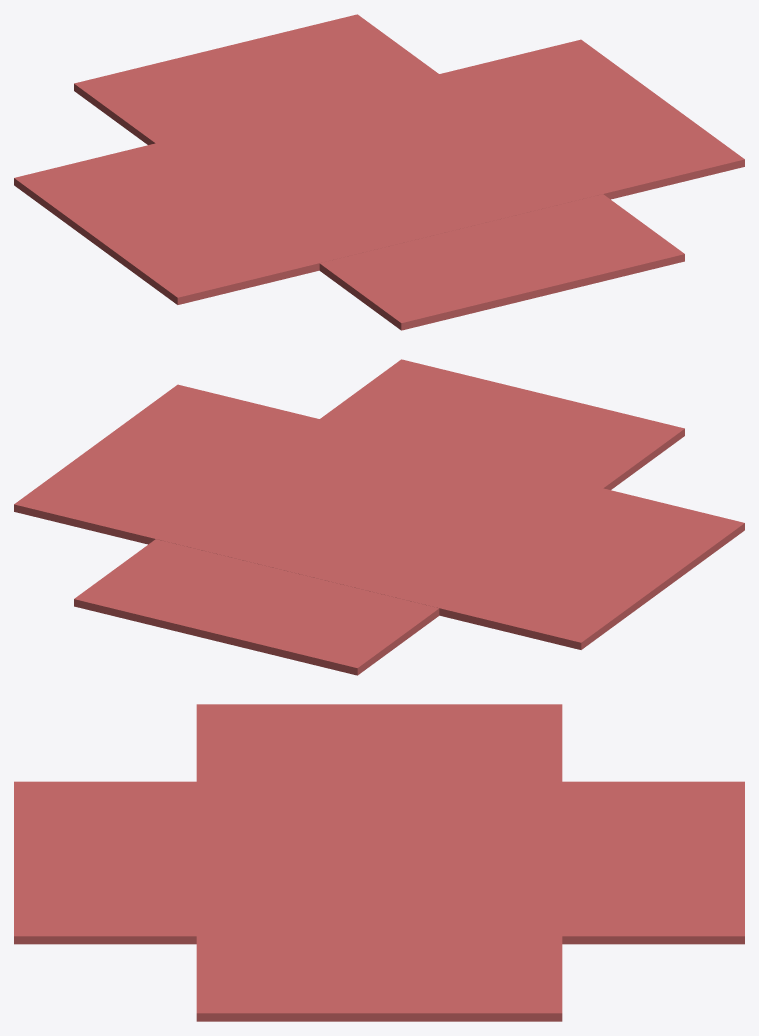
The model's file is floor_001_arch_stone_road_intersection_collision.glb.
3 renders of one model, top to bottom at view 1: azimuth 30°, elevation 25°; view 2: azimuth 150°, elevation 25°; view 3: azimuth 270°, elevation 25°, orthographic. The views are drawn at different scales.
Visible parts, largest first — view 1: floor_001_arch_stone_road_intersection_collision_east_west, floor_001_arch_stone_road_intersection_collision_north_south; view 2: floor_001_arch_stone_road_intersection_collision_east_west, floor_001_arch_stone_road_intersection_collision_north_south; view 3: floor_001_arch_stone_road_intersection_collision_east_west, floor_001_arch_stone_road_intersection_collision_north_south.
Boxes of the visible parts, box(x1,y1,x2,y2) form: floor_001_arch_stone_road_intersection_collision_east_west: box(14, 39, 744, 304); floor_001_arch_stone_road_intersection_collision_north_south: box(74, 14, 684, 330); floor_001_arch_stone_road_intersection_collision_east_west: box(14, 384, 744, 649); floor_001_arch_stone_road_intersection_collision_north_south: box(74, 359, 684, 675); floor_001_arch_stone_road_intersection_collision_east_west: box(196, 704, 562, 1021); floor_001_arch_stone_road_intersection_collision_north_south: box(14, 781, 744, 944).
Size of the model in its own units: 28 by 0.355 by 28.
